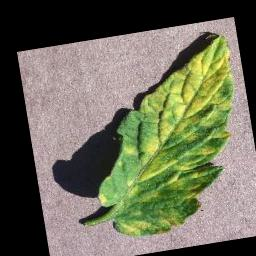Leaf_Mold: (75, 35, 255, 243)
